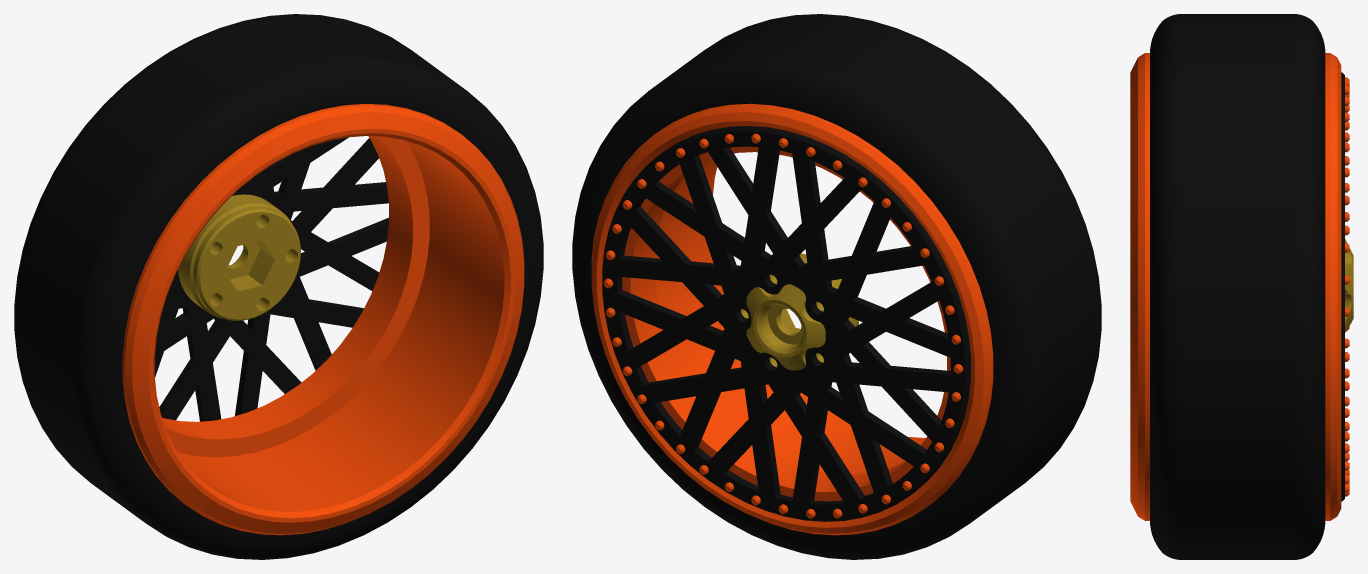
File: car_wheel.glb
The picture shows the model from 3 angles, left to right: view 1: azimuth 30°, elevation 25°; view 2: azimuth 150°, elevation 25°; view 3: azimuth 270°, elevation 25°; orthographic projection.
Parts seen in each view (by area): view 1: mesh50_meshnode_50_103, mesh48_meshnode_48_99, mesh59_meshnode_59_122, mesh192_meshnode_192_389, mesh65_meshnode_65_134, mesh49_meshnode_49_101, mesh57_meshnode_57_118, mesh58_meshnode_58_120, mesh12_meshnode_12_26, mesh64_meshnode_64_132, mesh66_meshnode_66_136, mesh63_meshnode_63_130 (+5 smaller); view 2: mesh193_meshnode_193_391, mesh50_meshnode_50_103, mesh52_meshnode_52_107, mesh51_meshnode_51_105, mesh62_meshnode_62_128, mesh59_meshnode_59_122, mesh61_meshnode_61_126, mesh72_meshnode_72_148, mesh57_meshnode_57_118, mesh56_meshnode_56_116, mesh191_meshnode_191_387, mesh49_meshnode_49_101 (+4 smaller); view 3: mesh50_meshnode_50_103, mesh51_meshnode_51_105, mesh49_meshnode_49_101, mesh48_meshnode_48_99, mesh52_meshnode_52_107, mesh72_meshnode_72_148, mesh65_meshnode_65_134, mesh66_meshnode_66_136, mesh71_meshnode_71_146, mesh67_meshnode_67_138, mesh62_meshnode_62_128, mesh191_meshnode_191_387 (+2 smaller).
Boxes of the visible parts, bbox=[...] form: mesh50_meshnode_50_103: bbox=[18, 16, 463, 521]; mesh48_meshnode_48_99: bbox=[89, 70, 542, 558]; mesh59_meshnode_59_122: bbox=[178, 141, 504, 511]; mesh192_meshnode_192_389: bbox=[154, 137, 388, 421]; mesh65_meshnode_65_134: bbox=[132, 112, 524, 533]; mesh49_meshnode_49_101: bbox=[73, 56, 543, 559]; mesh57_meshnode_57_118: bbox=[162, 136, 412, 439]; mesh58_meshnode_58_120: bbox=[166, 136, 429, 457]; mesh12_meshnode_12_26: bbox=[200, 212, 299, 319]; mesh64_meshnode_64_132: bbox=[149, 128, 514, 522]; mesh66_meshnode_66_136: bbox=[125, 105, 524, 535]; mesh63_meshnode_63_130: bbox=[153, 133, 510, 518]; mesh193_meshnode_193_391: bbox=[603, 131, 964, 520]; mesh50_meshnode_50_103: bbox=[652, 16, 1097, 521]; mesh52_meshnode_52_107: bbox=[573, 70, 1026, 558]; mesh51_meshnode_51_105: bbox=[572, 56, 1042, 559]; mesh62_meshnode_62_128: bbox=[591, 112, 983, 533]; mesh59_meshnode_59_122: bbox=[654, 159, 925, 474]; mesh61_meshnode_61_126: bbox=[596, 121, 974, 527]; mesh72_meshnode_72_148: bbox=[591, 105, 990, 535]; mesh57_meshnode_57_118: bbox=[630, 173, 906, 492]; mesh56_meshnode_56_116: bbox=[622, 146, 950, 501]; mesh191_meshnode_191_387: bbox=[602, 128, 968, 521]; mesh49_meshnode_49_101: bbox=[724, 14, 1101, 466]; mesh50_meshnode_50_103: bbox=[1181, 14, 1293, 559]; mesh51_meshnode_51_105: bbox=[1293, 14, 1312, 559]; mesh49_meshnode_49_101: bbox=[1162, 14, 1181, 559]; mesh48_meshnode_48_99: bbox=[1150, 21, 1162, 552]; mesh52_meshnode_52_107: bbox=[1313, 21, 1325, 552]; mesh72_meshnode_72_148: bbox=[1330, 53, 1337, 520]; mesh65_meshnode_65_134: bbox=[1130, 58, 1137, 515]; mesh66_meshnode_66_136: bbox=[1138, 53, 1144, 520]; mesh71_meshnode_71_146: bbox=[1325, 53, 1330, 520]; mesh67_meshnode_67_138: bbox=[1145, 53, 1149, 520]; mesh62_meshnode_62_128: bbox=[1337, 58, 1341, 515]; mesh191_meshnode_191_387: bbox=[1342, 73, 1344, 500].
Bounding box in the file's own units: 0.0559 × 0.056 × 0.0229.
